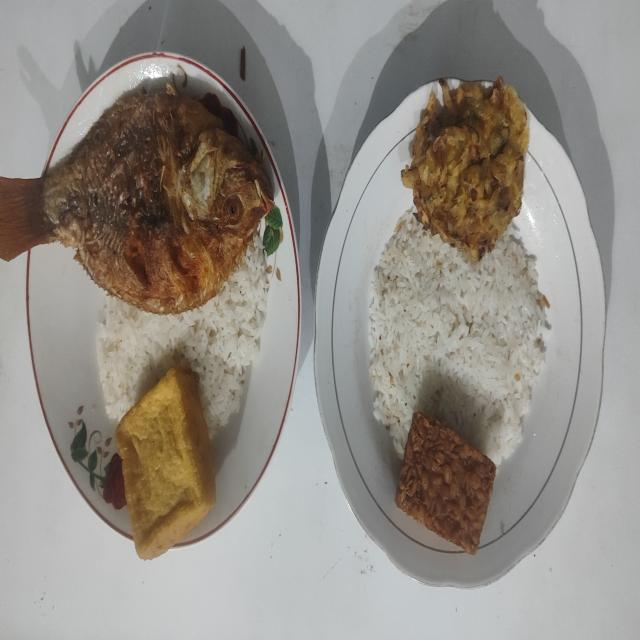ikan_mujair: (0, 89, 274, 314)
nasi_putih: (369, 210, 550, 462), (96, 233, 270, 437)
tahu_goreng: (116, 366, 216, 558)
tempe_goreng: (396, 412, 496, 554)
